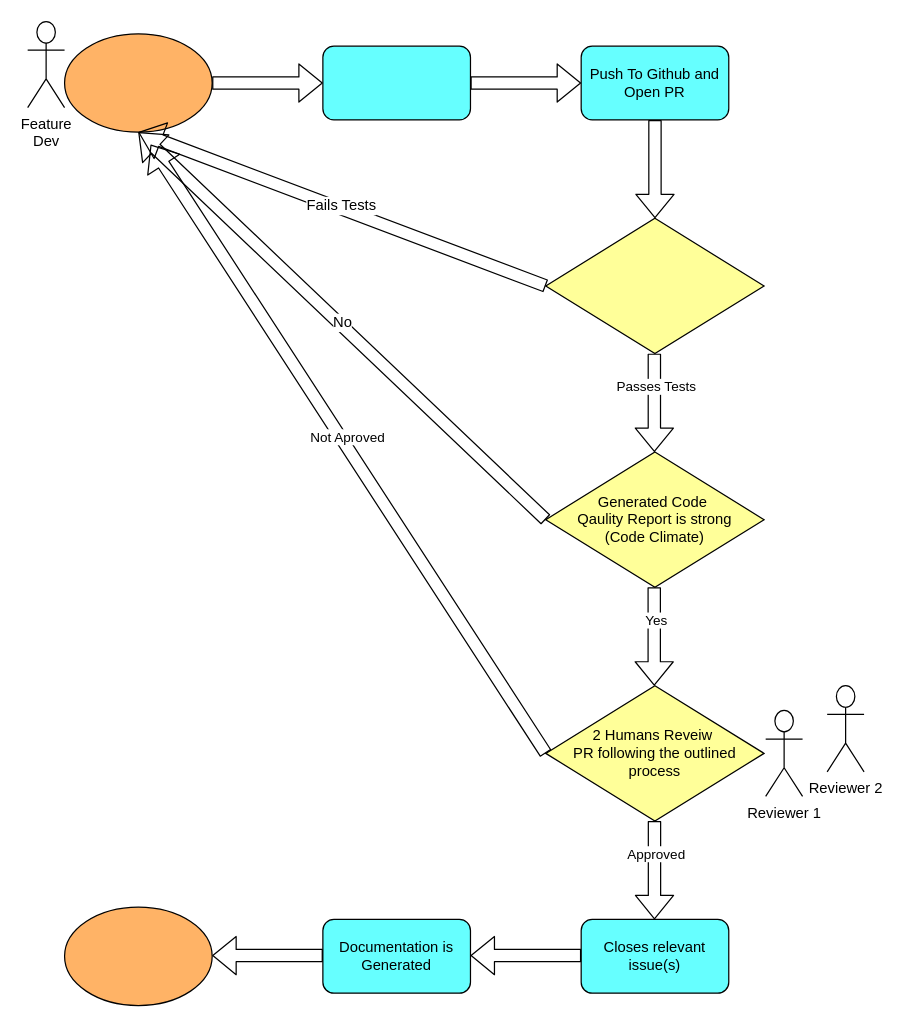
Some shapes in this 904 by 1027 pixel diagram are drawn without their labels. The shapes that lost their labels are listed below. From the top down, each one's centre as x and y in pixels, then its label:
At point 137,82: "Dev Finishes Developing Code".
At point 396,82: "Local Code Linting (Husky)".
At point 654,285: "Run Automatic Uint Tests (Jest)".
At point 137,956: "Code is merged into main branch".
